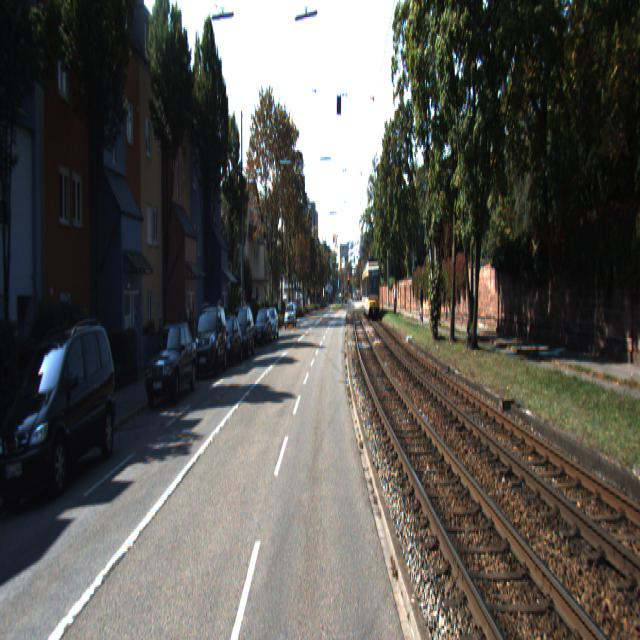Car: (0, 317, 121, 512), (144, 319, 199, 410), (192, 302, 228, 382), (228, 306, 255, 364), (216, 315, 242, 369), (362, 263, 381, 322), (254, 308, 272, 349)
